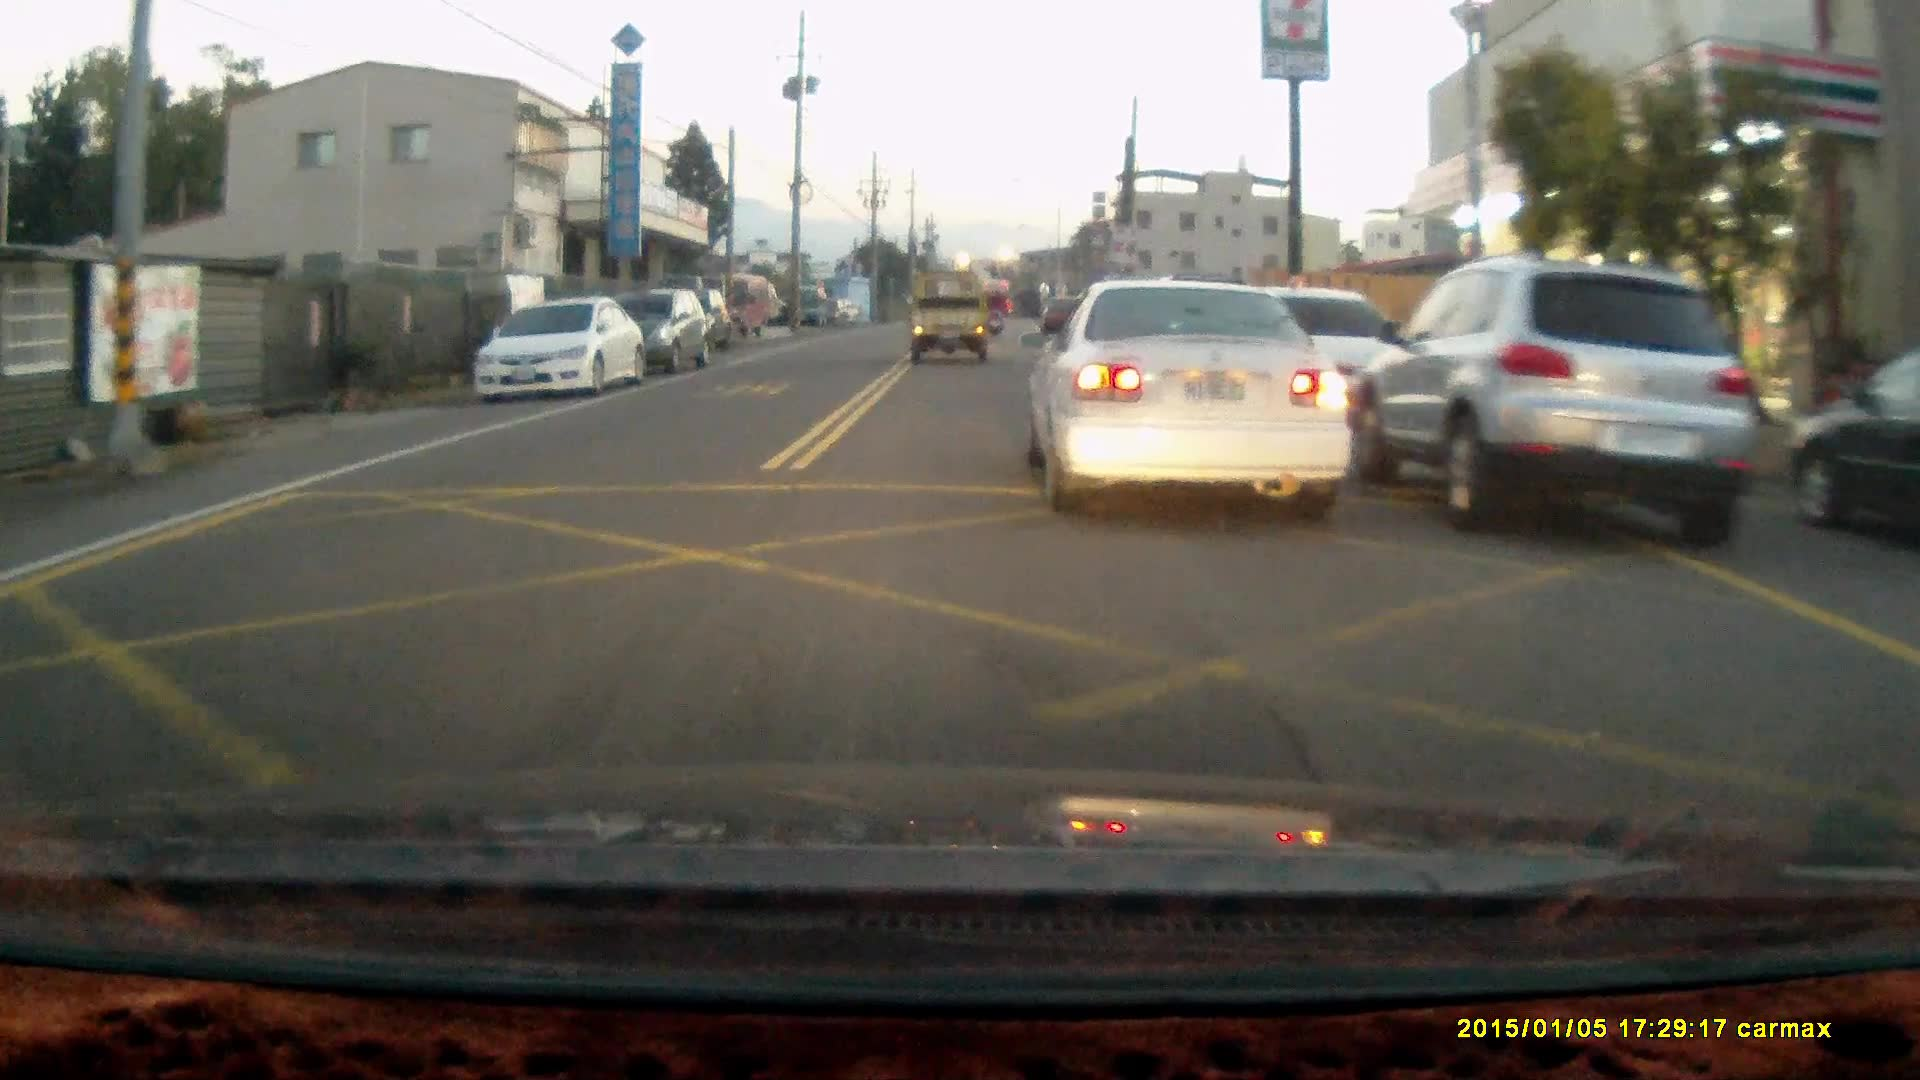rider: (982, 286, 1009, 337)
vehicle: (1349, 263, 1756, 549), (1030, 278, 1355, 511), (1783, 355, 1919, 548), (476, 296, 645, 409), (606, 295, 712, 380), (906, 269, 994, 365), (713, 274, 774, 344)
